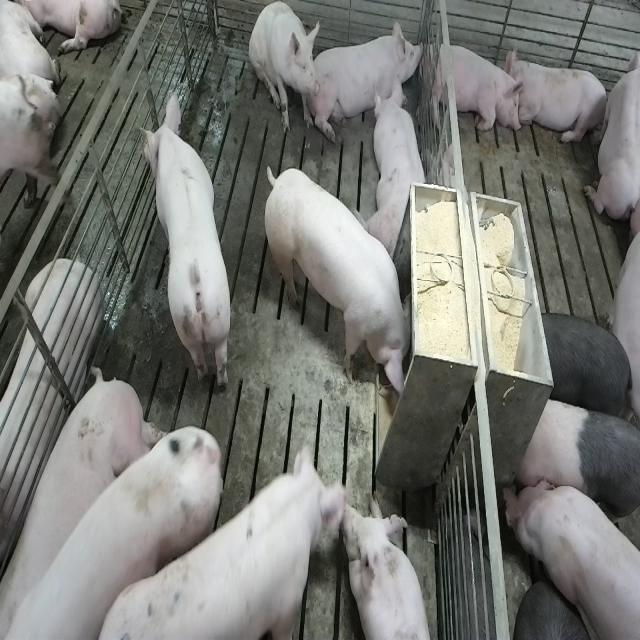Feeding: (269, 165, 421, 403)
Lateral_lying: (0, 257, 103, 588)
Sitting: (249, 2, 320, 137)
Standing: (5, 399, 234, 640), (101, 441, 360, 640), (139, 96, 234, 397), (502, 474, 638, 640), (512, 397, 638, 553), (535, 307, 637, 425)
Sternal_lying: (341, 488, 437, 640), (314, 12, 424, 138), (369, 80, 431, 258), (583, 37, 637, 225), (425, 36, 524, 138), (510, 52, 609, 149)
